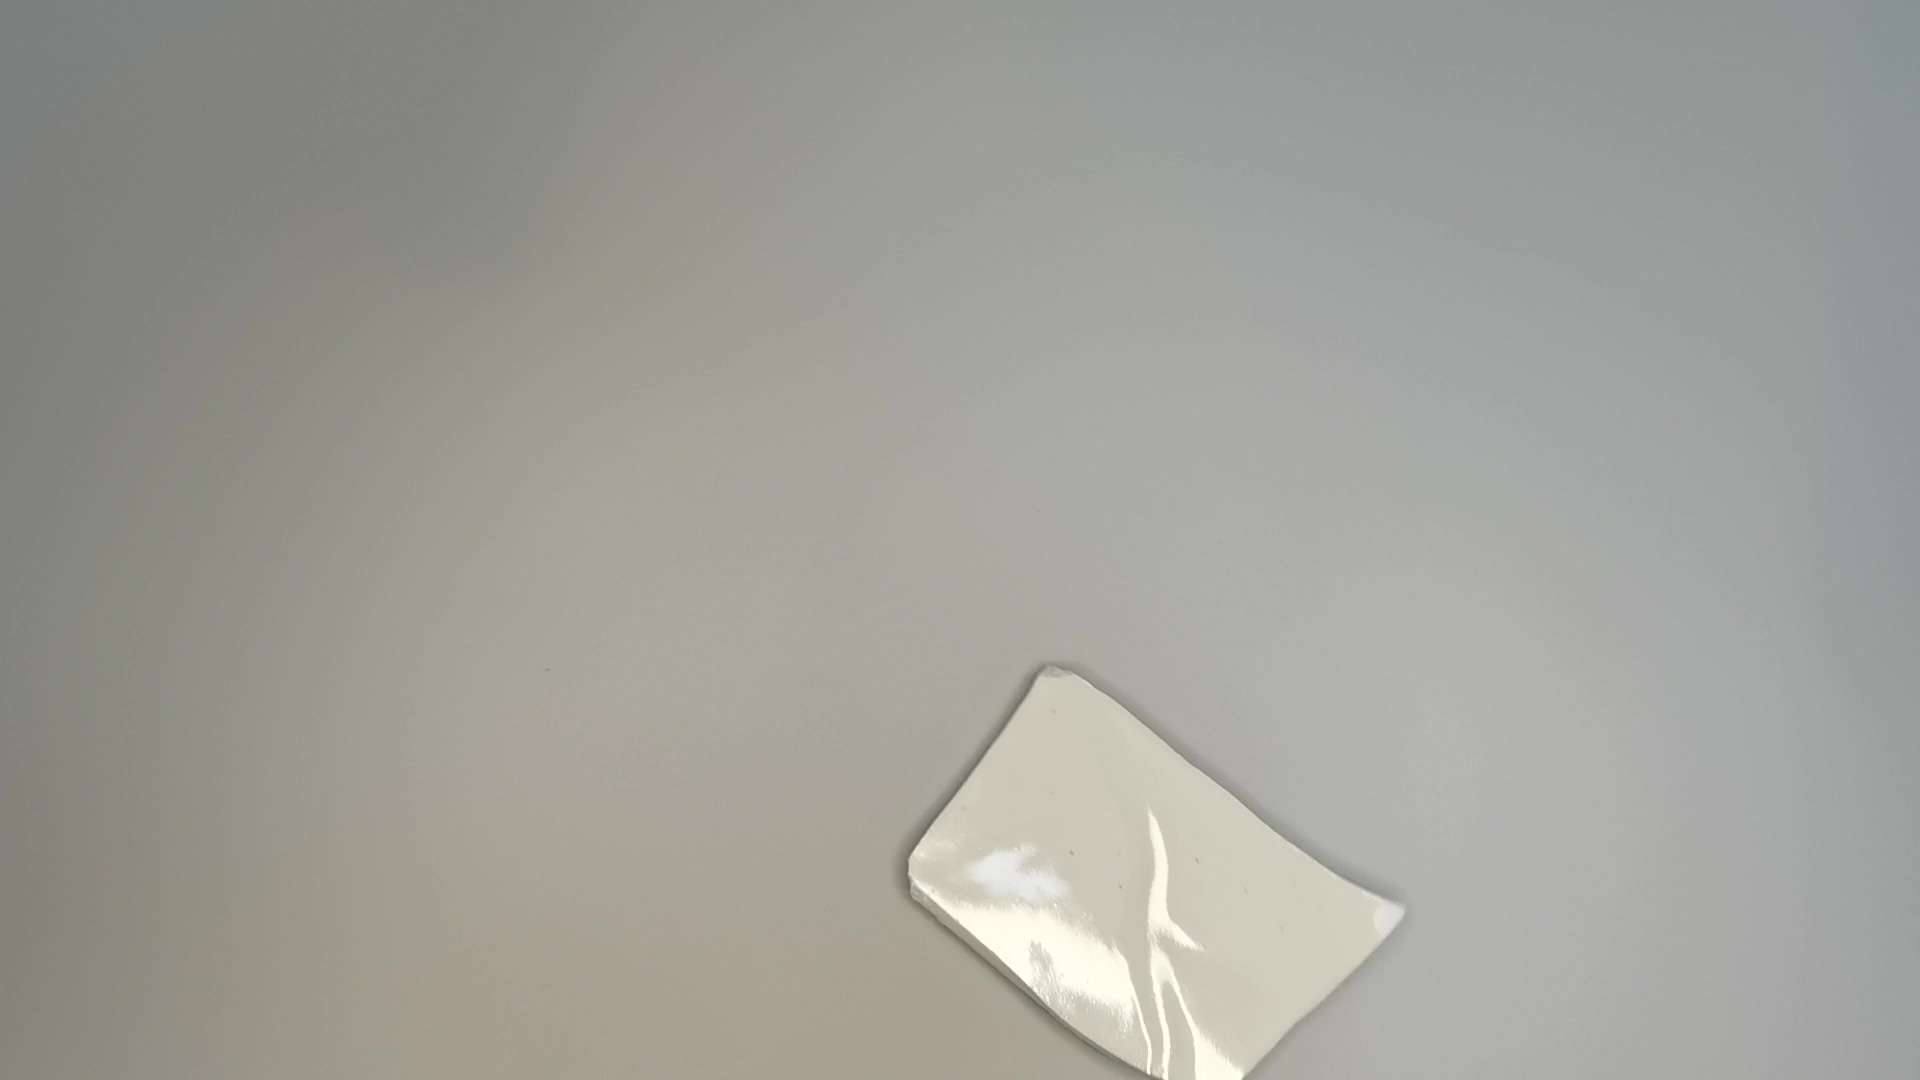ceramic: (891, 657, 1420, 1080)
